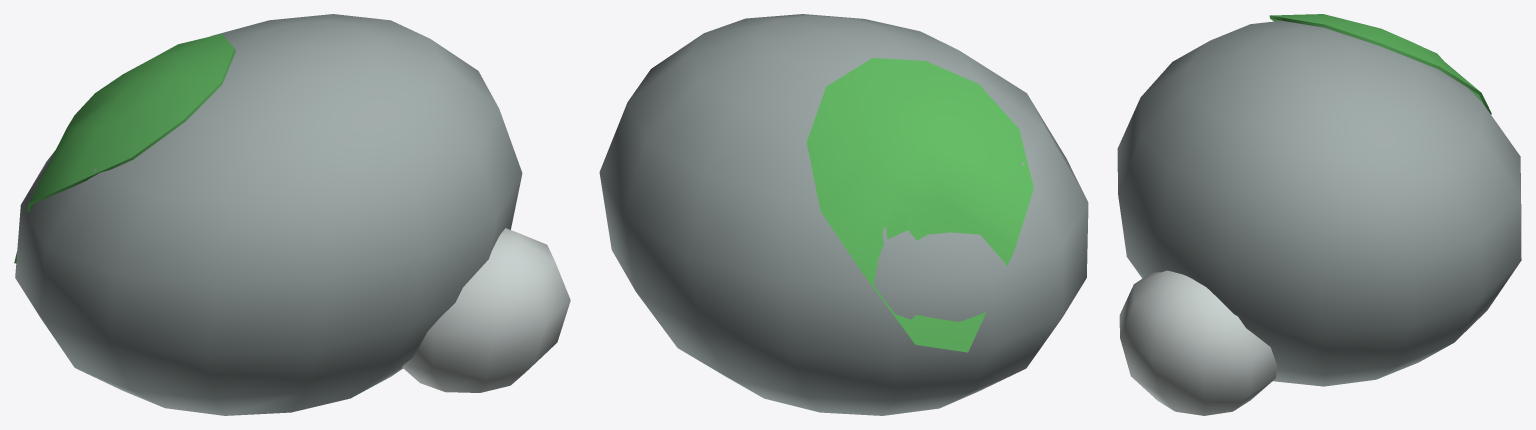
Rendered from rock.glb.
3 views of the same model, side by side, from view 1: azimuth 30°, elevation 25°; view 2: azimuth 150°, elevation 25°; view 3: azimuth 270°, elevation 25° (orthographic). The views are drawn at different scales.
Visible parts, largest first — view 1: RockBody, RockSmall, Moss; view 2: RockBody, Moss; view 3: RockBody, RockSmall, Moss.
Part boxes in pixels (box(x1,y1,x2,y2)): RockBody: box(15, 14, 522, 415); RockSmall: box(402, 228, 570, 392); Moss: box(14, 34, 235, 263); RockBody: box(599, 14, 1088, 415); Moss: box(806, 58, 1033, 352); RockBody: box(1117, 20, 1521, 386); RockSmall: box(1119, 270, 1277, 415); Moss: box(1269, 14, 1491, 114).
Size of the model in its own units: 1.2 by 0.8 by 1.
